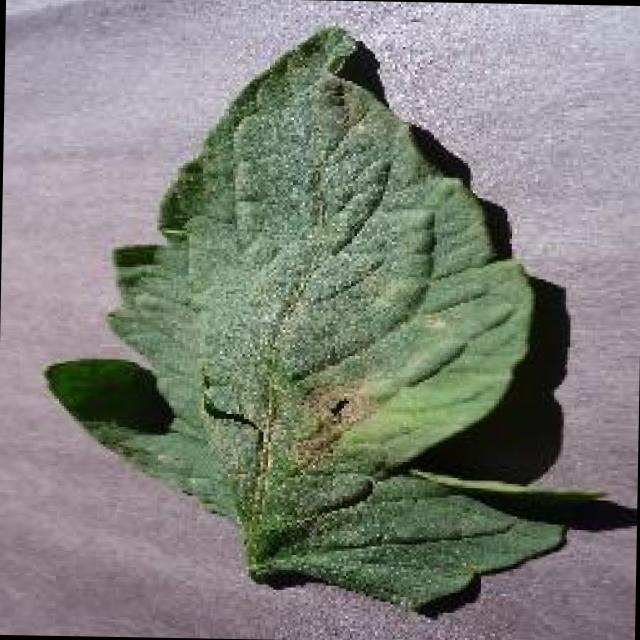Tomato_Early_Blight: (52, 336, 540, 582)
